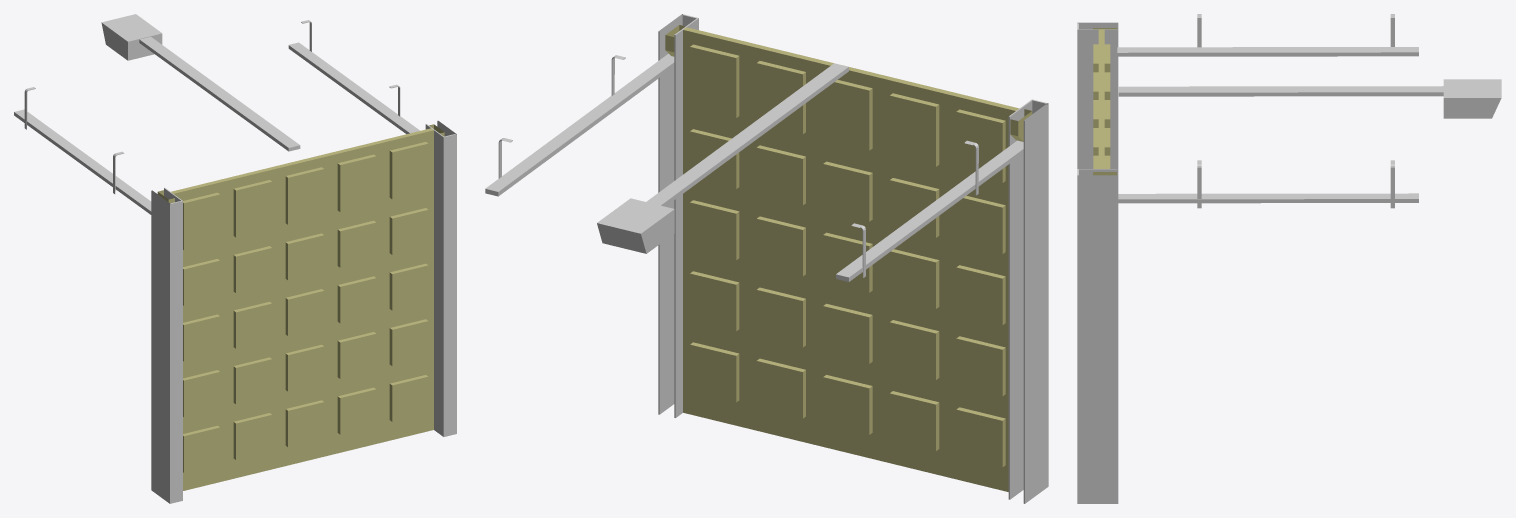
The model's file is Garage_Door.fbx.
The picture shows the model from 3 angles, left to right: view 1: azimuth 30°, elevation 25°; view 2: azimuth 150°, elevation 25°; view 3: azimuth 270°, elevation 25°; orthographic projection. The views are drawn at different scales.
Visible parts, largest first — view 1: Door.016, Garage_Door; view 2: Door.016, Garage_Door; view 3: Garage_Door, Door.016.
Part boxes in pixels (bbox=[...]): Door.016: bbox=[171, 128, 433, 490]; Garage_Door: bbox=[14, 14, 456, 503]; Door.016: bbox=[683, 27, 1019, 491]; Garage_Door: bbox=[485, 14, 1048, 503]; Garage_Door: bbox=[1077, 14, 1501, 503]; Door.016: bbox=[1093, 29, 1110, 168].
Size of the model in its own units: 300 by 309 by 351.
